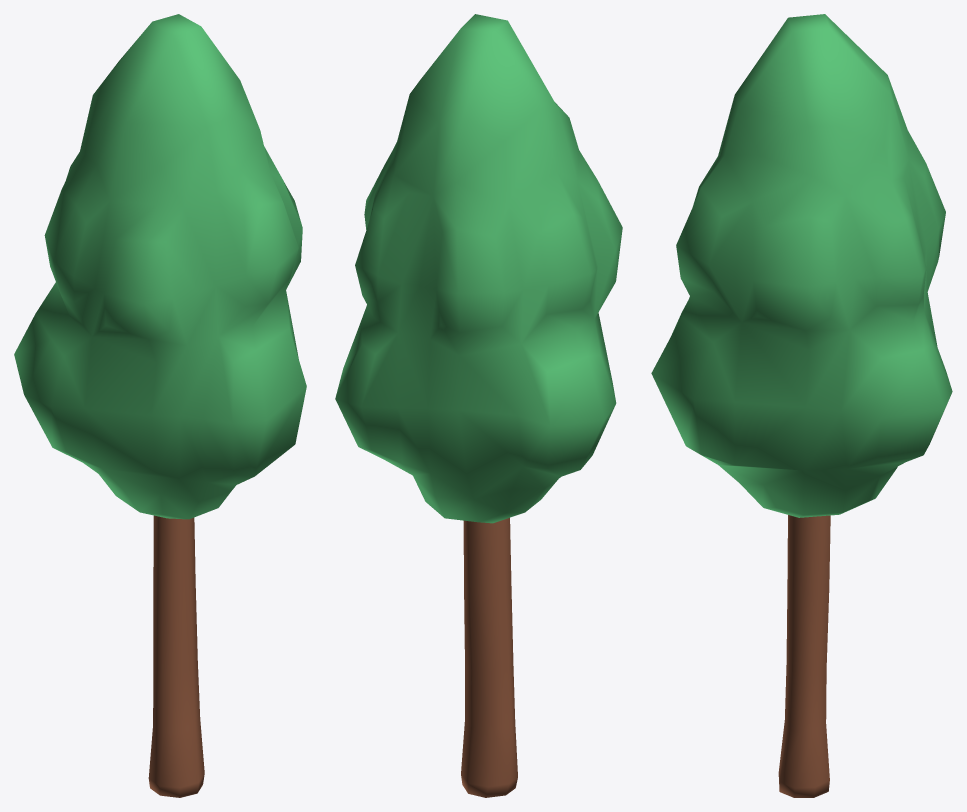
Rendered from Tree_E_01_LOD2.gltf.
3 renders of one model, left to right at view 1: azimuth 30°, elevation 25°; view 2: azimuth 150°, elevation 25°; view 3: azimuth 270°, elevation 25°, orthographic.
Visible parts, largest first — view 1: Tree_E_01_LOD2_Cylinder.663; view 2: Tree_E_01_LOD2_Cylinder.663; view 3: Tree_E_01_LOD2_Cylinder.663.
Boxes of the visible parts, x1,y1,x2,y2 form: Tree_E_01_LOD2_Cylinder.663: (14, 14, 306, 797); Tree_E_01_LOD2_Cylinder.663: (335, 14, 622, 797); Tree_E_01_LOD2_Cylinder.663: (651, 14, 952, 797).
Size of the model in its own units: 6.28 by 18.02 by 6.4.
1 material, 1 textured.
